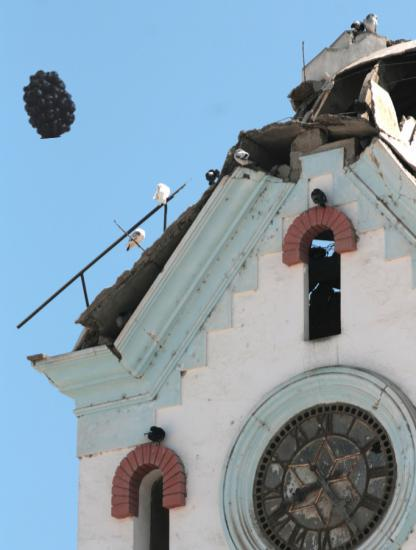Mulberry: (15, 68, 85, 138)
